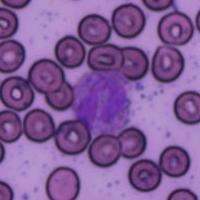E: (71, 68, 138, 136)
